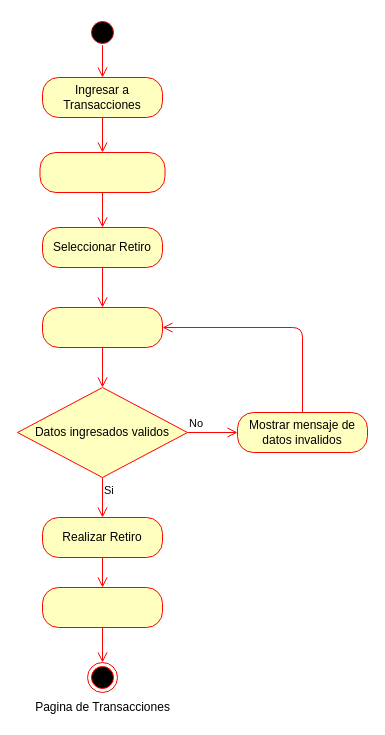
Some shapes in this 385 by 735 pixel diagram are drawn without their labels. Each missing label, with the centre of its shape:
Finalizar Retiro: point (102, 607)
Ingresar Datos del Retiro: point (102, 327)
Seleccionar tipo de transaccion: point (102, 172)
